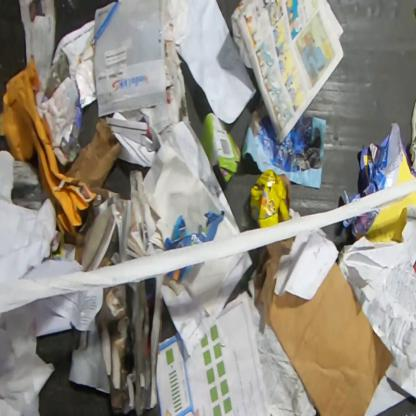cardboard: (252, 235, 397, 415), (64, 118, 124, 190), (200, 111, 242, 184), (249, 168, 293, 229)
